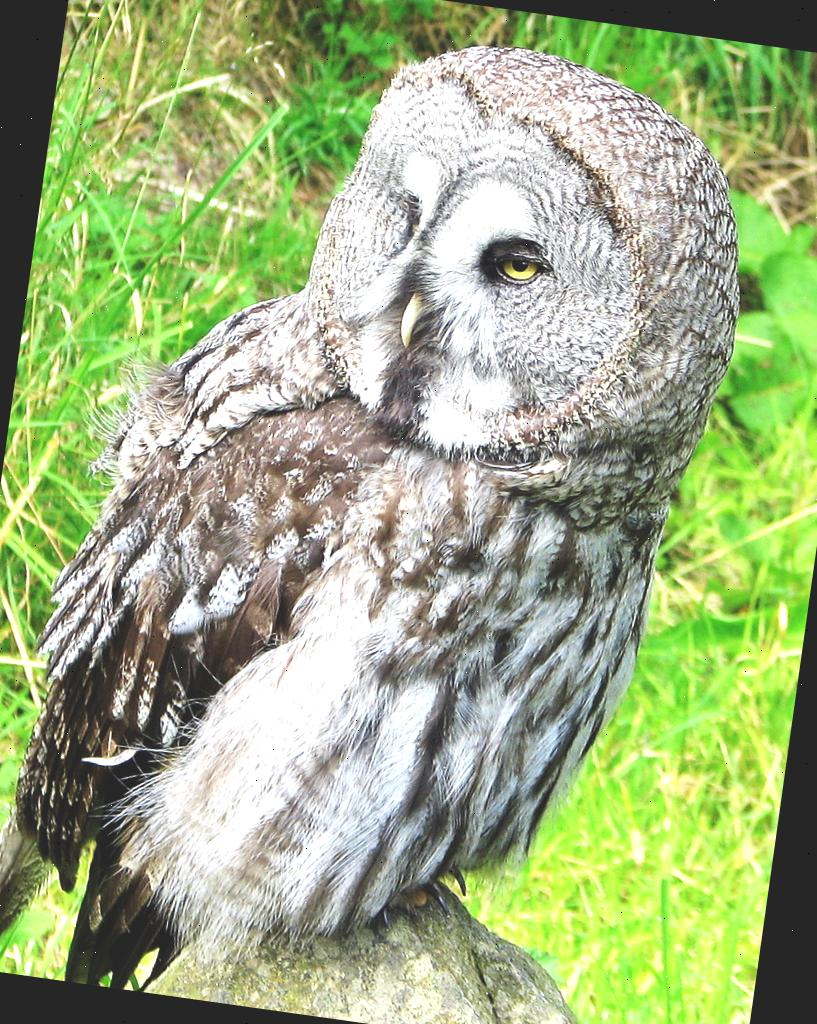Owl: (0, 0, 771, 1024)
